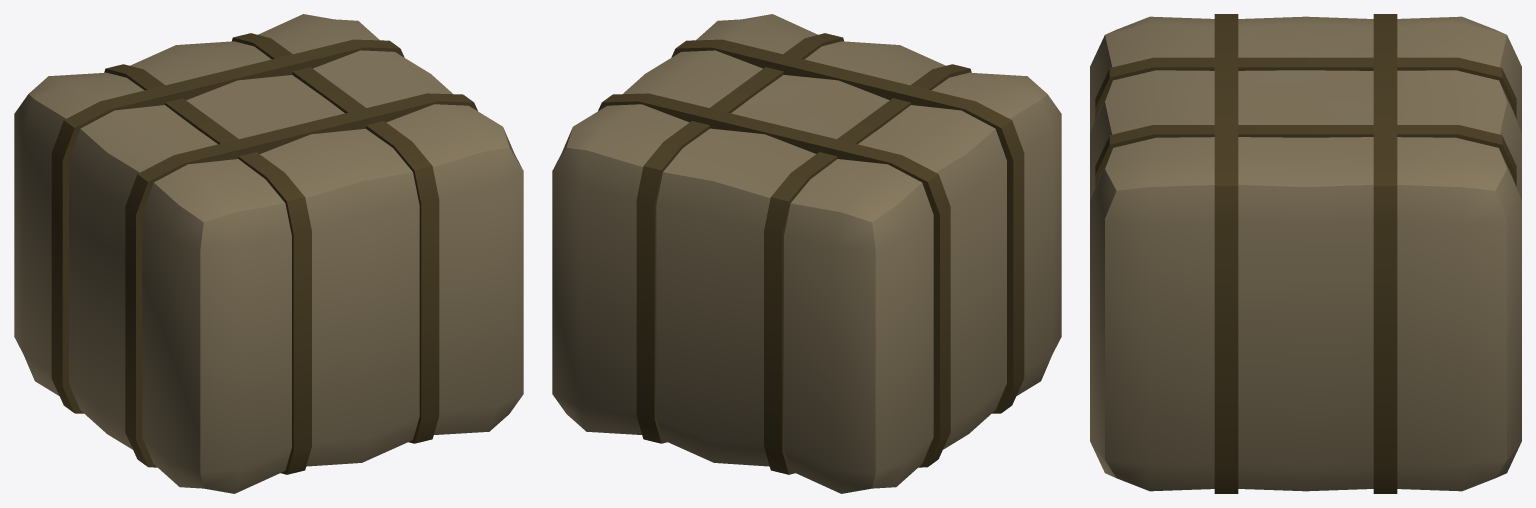
Rendered from Package_2.glb.
3 views of the same model, side by side, from view 1: azimuth 30°, elevation 25°; view 2: azimuth 150°, elevation 25°; view 3: azimuth 270°, elevation 25° (orthographic). The views are drawn at different scales.
Visible parts, largest first — view 1: Package_2_Cube.260; view 2: Package_2_Cube.260; view 3: Package_2_Cube.260.
Boxes of the visible parts, left/top/right/bottom form: Package_2_Cube.260: left=14, top=14, right=523, bottom=493; Package_2_Cube.260: left=552, top=14, right=1061, bottom=493; Package_2_Cube.260: left=1090, top=14, right=1521, bottom=493.
Bounding box in the file's own units: 0.1897 × 0.158 × 0.1876.
